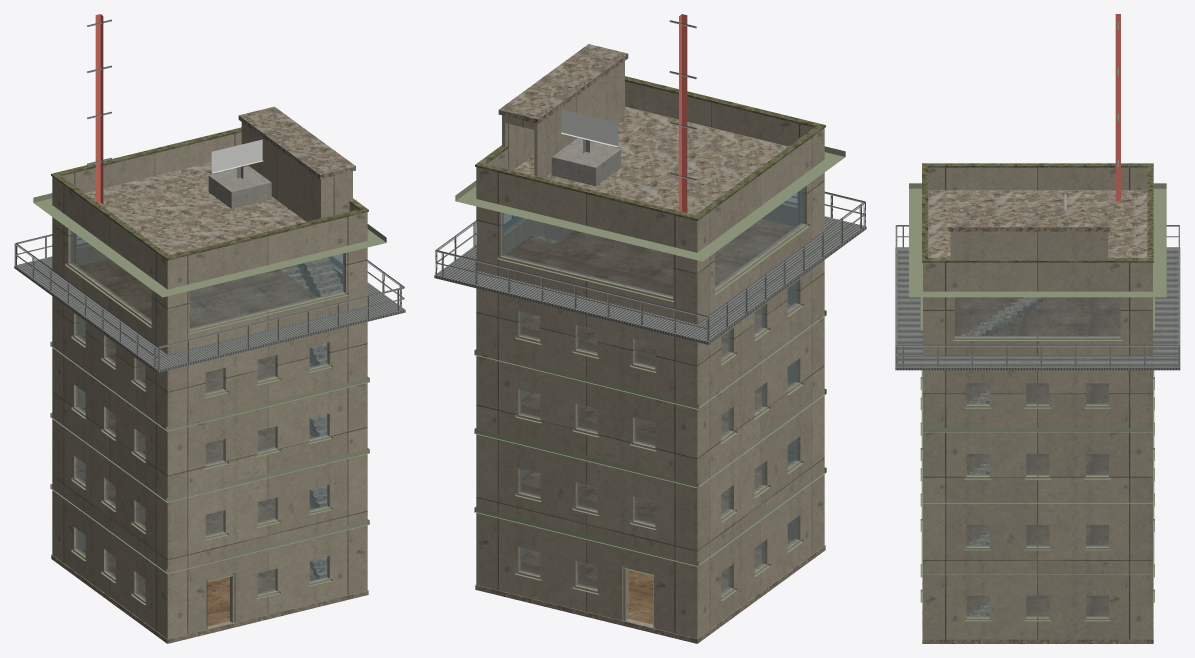
File: mb-ops-tower.zfix-v21.lod0.glb
The picture shows the model from 3 angles, left to right: view 1: azimuth 30°, elevation 25°; view 2: azimuth 150°, elevation 25°; view 3: azimuth 270°, elevation 25°; orthographic projection. The views are drawn at different scales.
Parts seen in each view (by area): view 1: mb-ops-tower; view 2: mb-ops-tower; view 3: mb-ops-tower.
Boxes of the visible parts, bbox=[...] form: mb-ops-tower: bbox=[14, 14, 405, 643]; mb-ops-tower: bbox=[434, 14, 866, 643]; mb-ops-tower: bbox=[895, 14, 1180, 643].
Bounding box in the file's own units: 12.41 × 26.22 × 12.41.
6 materials, 4 textured.
